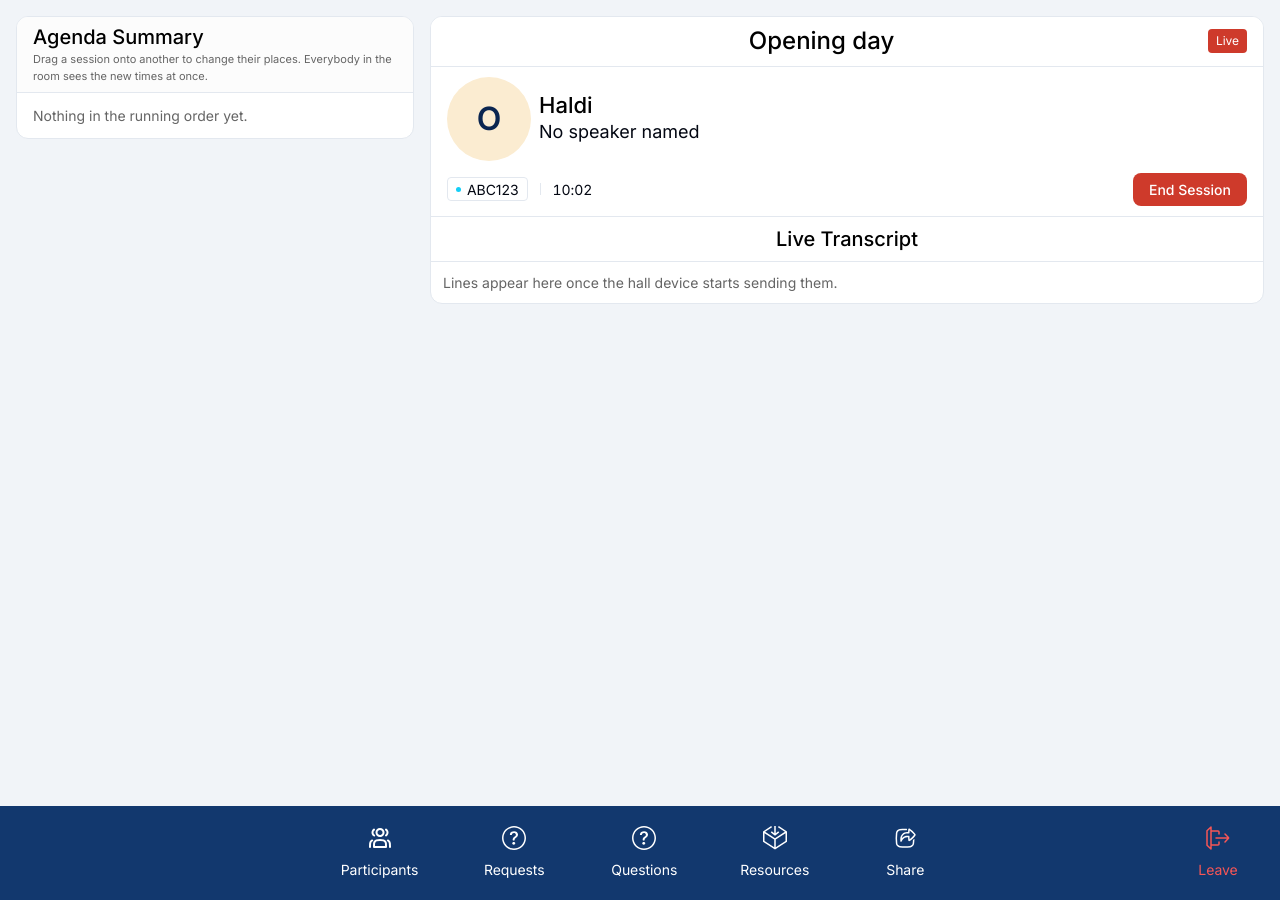
Scenario: the room as the design lays it out › replaces slide ordering controls with a Drive delete action
Click the button "Resources".
click(775, 853)  # box [728, 818, 821, 888]
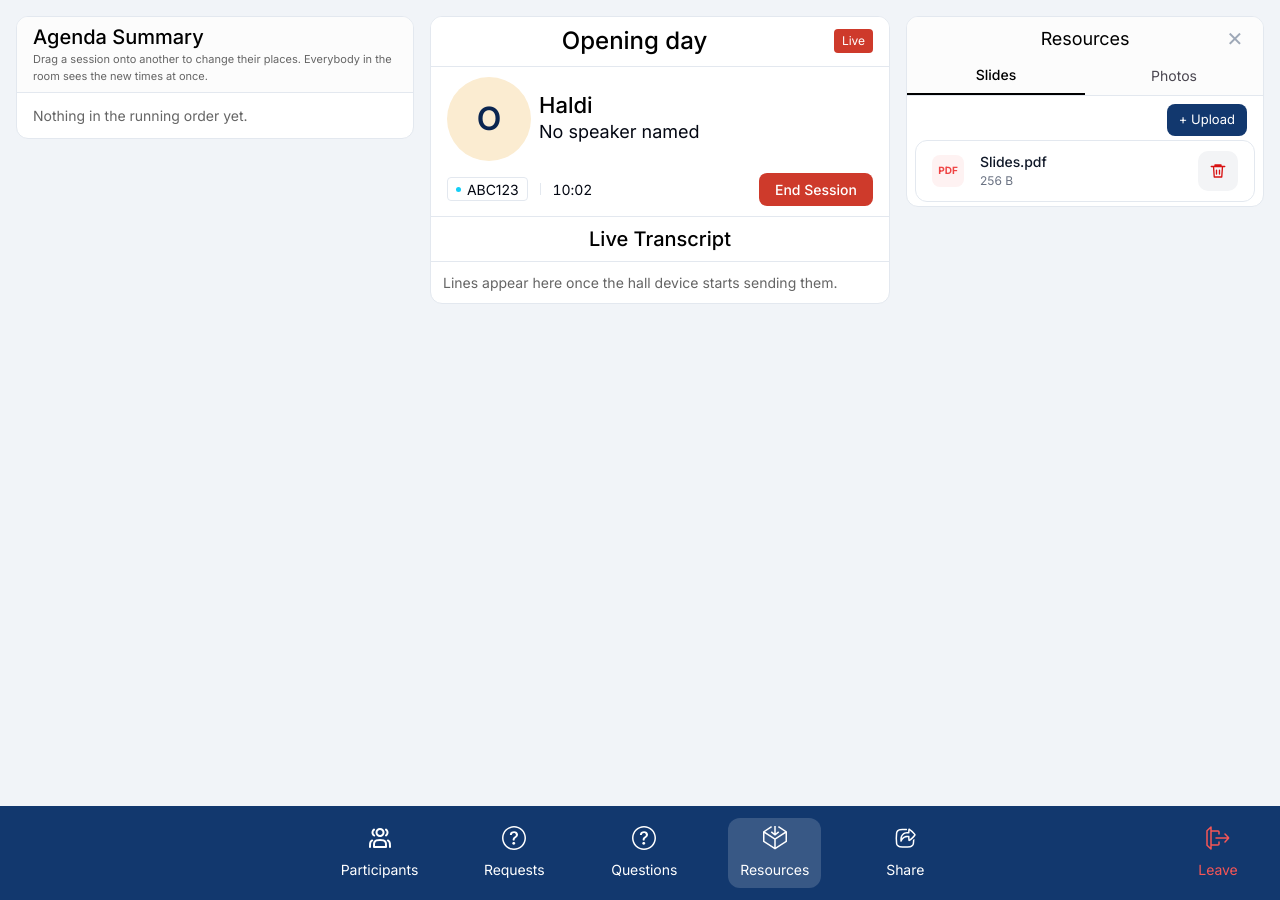
expect the text "Slides.pdf" is shown: met, box [980, 151, 1047, 172]
expect the button named "Delete Slides.pdf" is shown: met
Click the button named "Delete Slides.pdf".
click(1218, 170)  # box [1198, 150, 1238, 190]
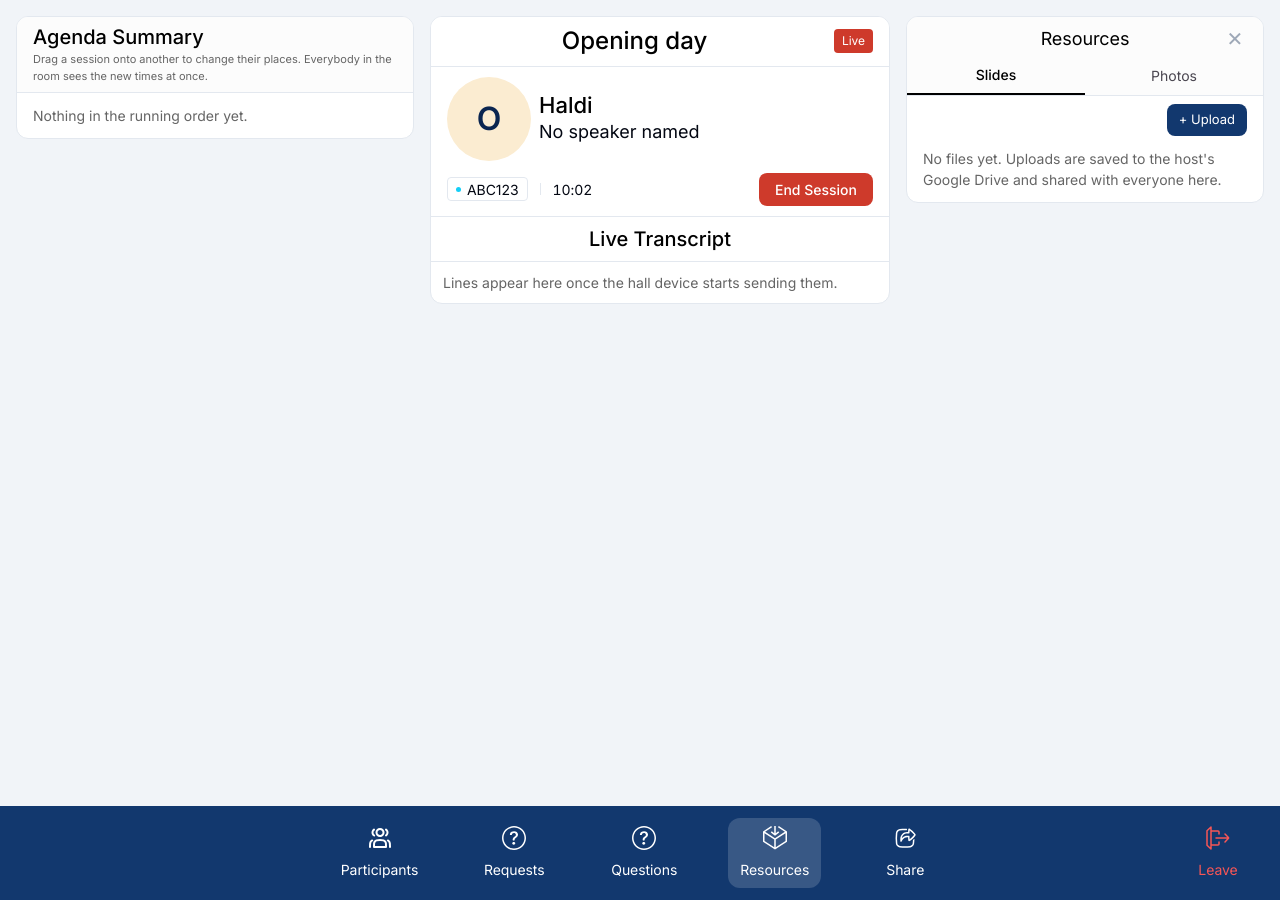
expect the link "Slides.pdf" is gone: met
